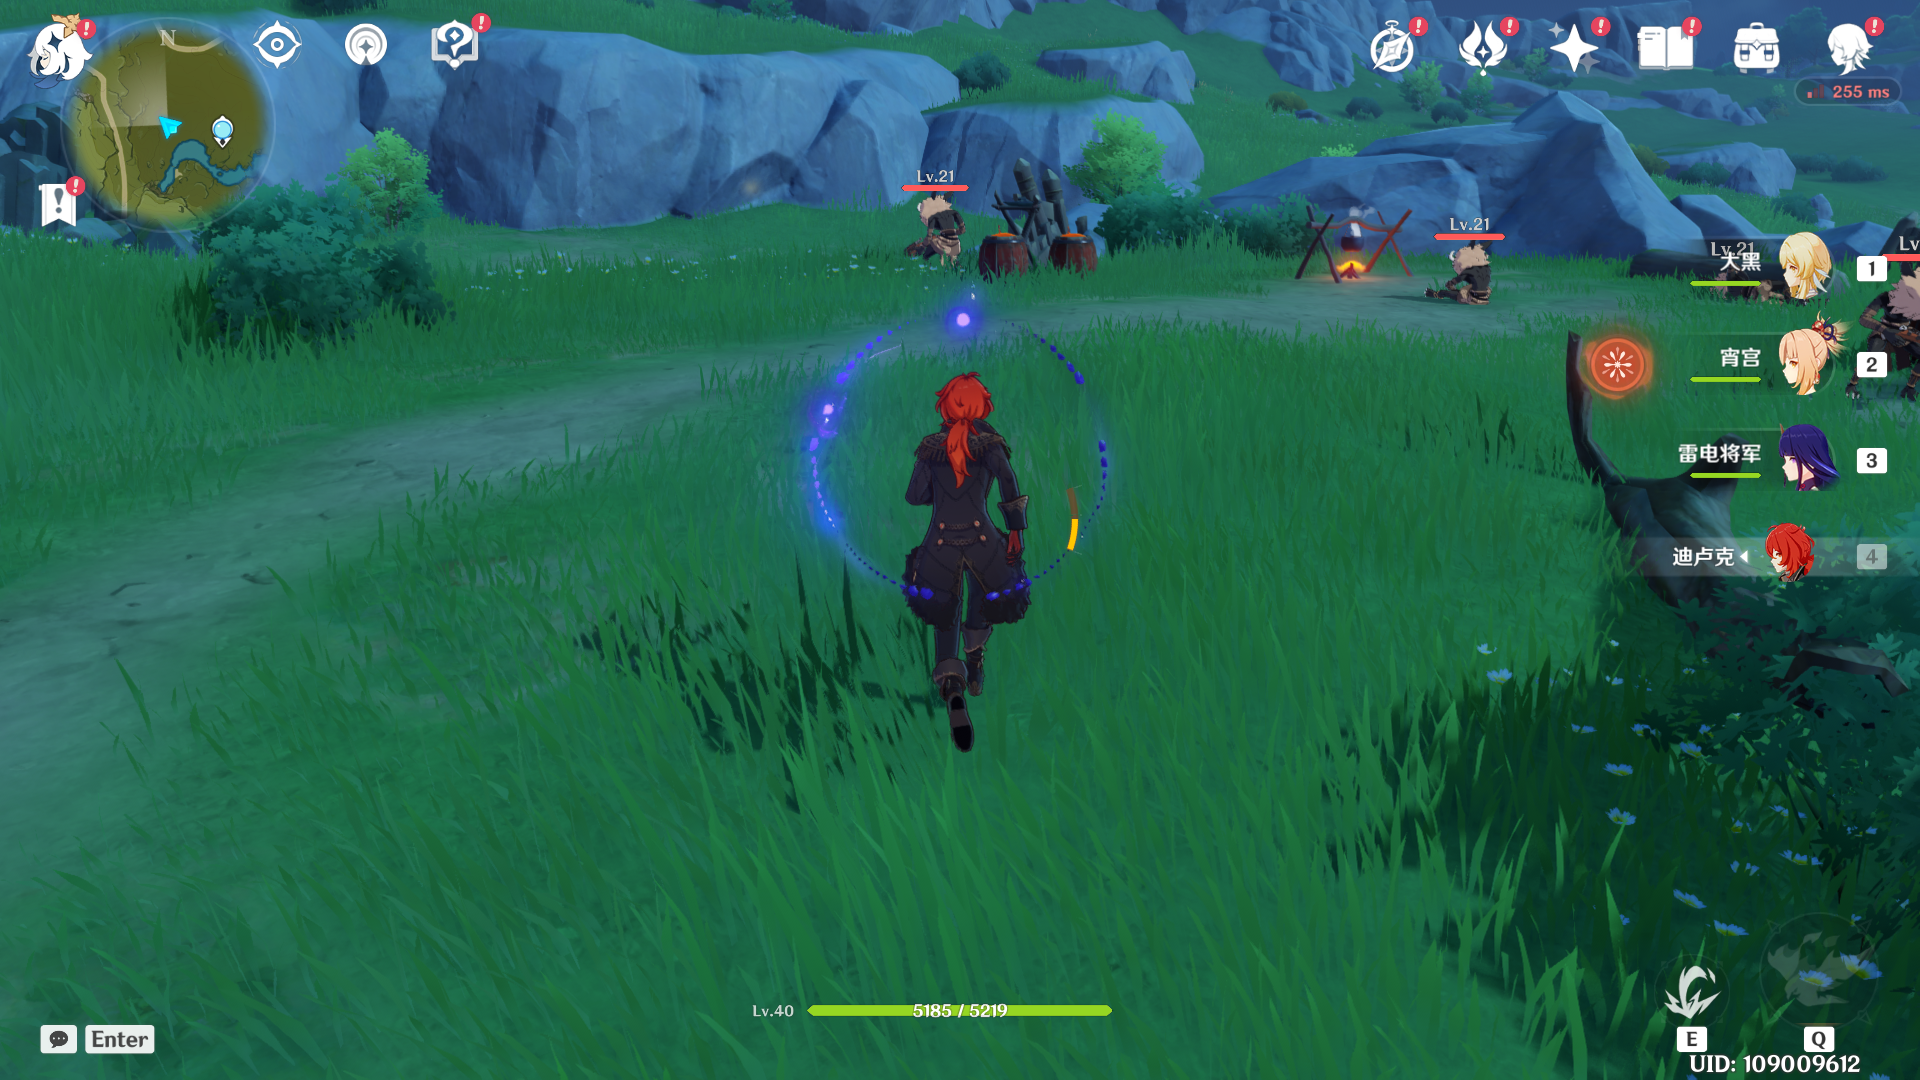character: (836, 356, 1098, 757)
hili: (1847, 247, 1920, 409), (887, 185, 988, 281), (1411, 229, 1513, 314)
